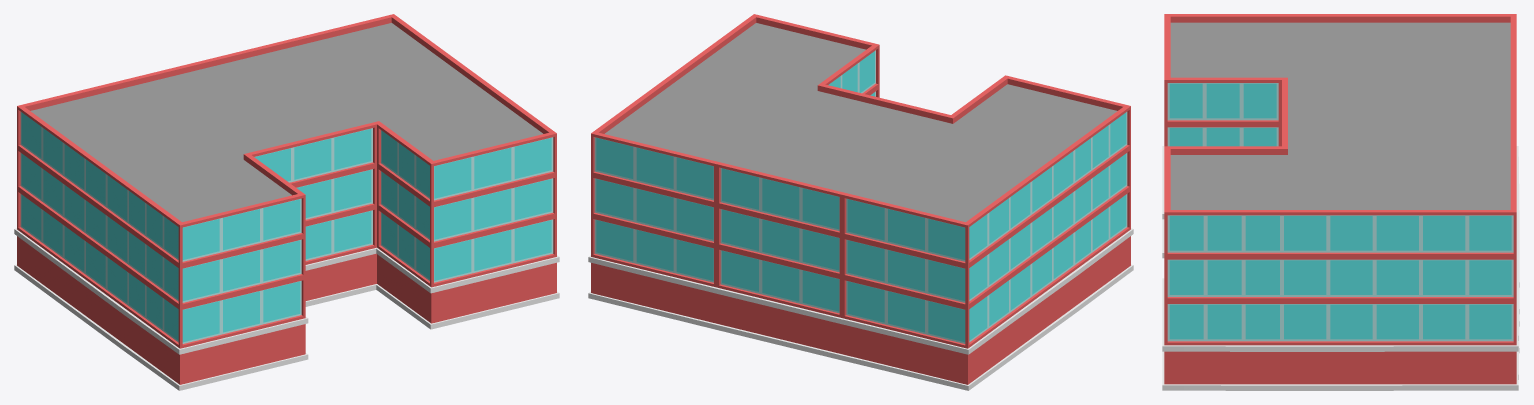
The model's file is SM_House_12_02.FBX.
The picture shows the model from 3 angles, left to right: view 1: azimuth 30°, elevation 25°; view 2: azimuth 150°, elevation 25°; view 3: azimuth 270°, elevation 25°; orthographic projection. The views are drawn at different scales.
Parts seen in each view (by area): view 1: SM_House_12_02; view 2: SM_House_12_02; view 3: SM_House_12_02.
Part boxes in pixels (box(x1,y1,x2,y2)): SM_House_12_02: box(14, 14, 559, 390); SM_House_12_02: box(588, 14, 1133, 390); SM_House_12_02: box(1162, 14, 1519, 390).
Size of the model in its own units: 12.15 by 5 by 9.12.
1 material, 1 textured.
